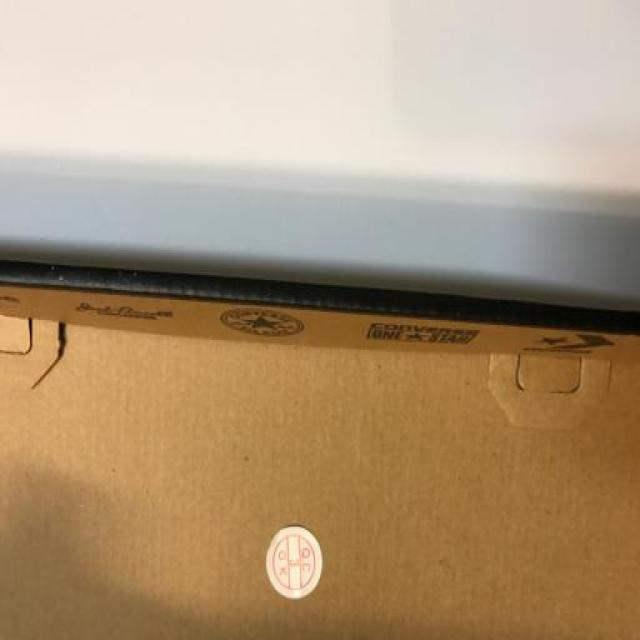Cardboard: (2, 264, 640, 635)
